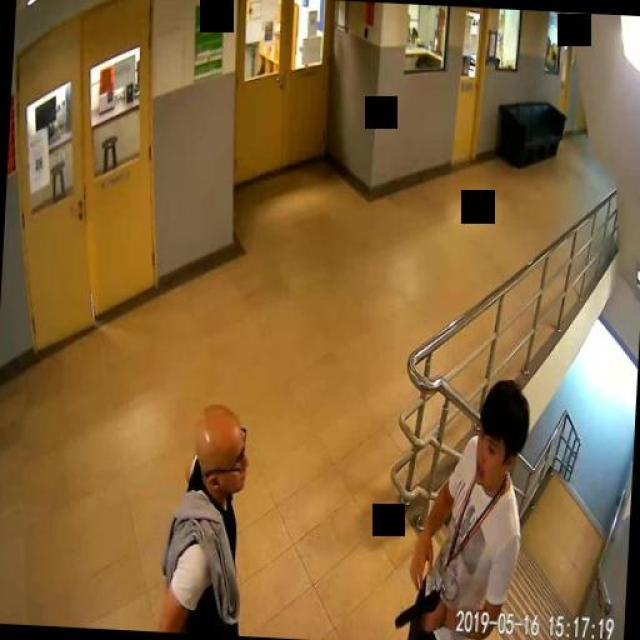gun: (392, 586, 440, 632)
